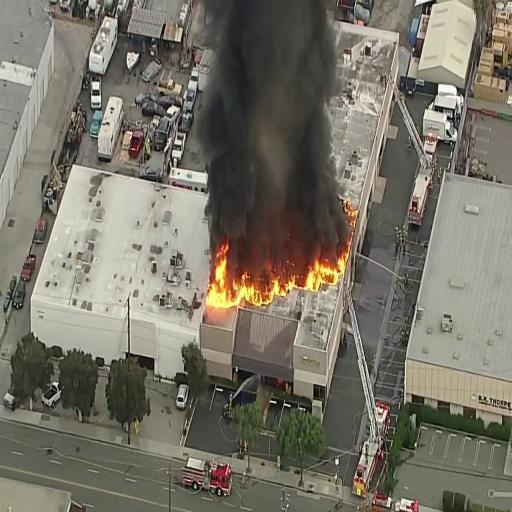fire: (236, 272, 296, 308), (305, 253, 341, 294), (212, 253, 236, 310)
smoke: (214, 4, 341, 235)
